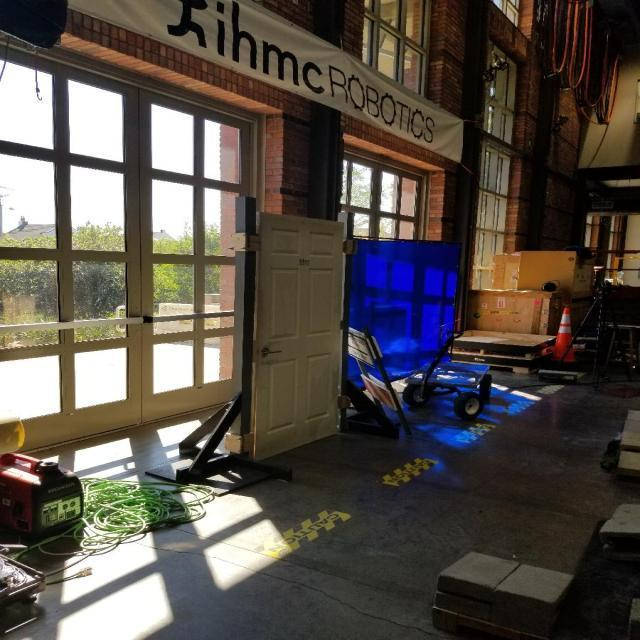door: (252, 208, 348, 462), (258, 344, 282, 359)
